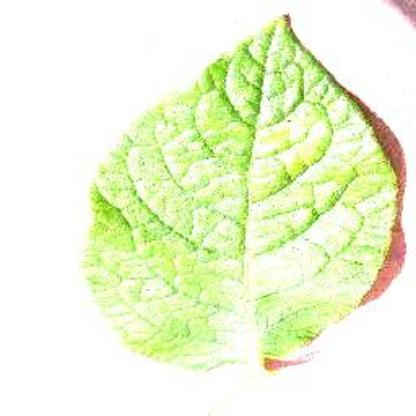Healthy-plant: (77, 13, 407, 386)
